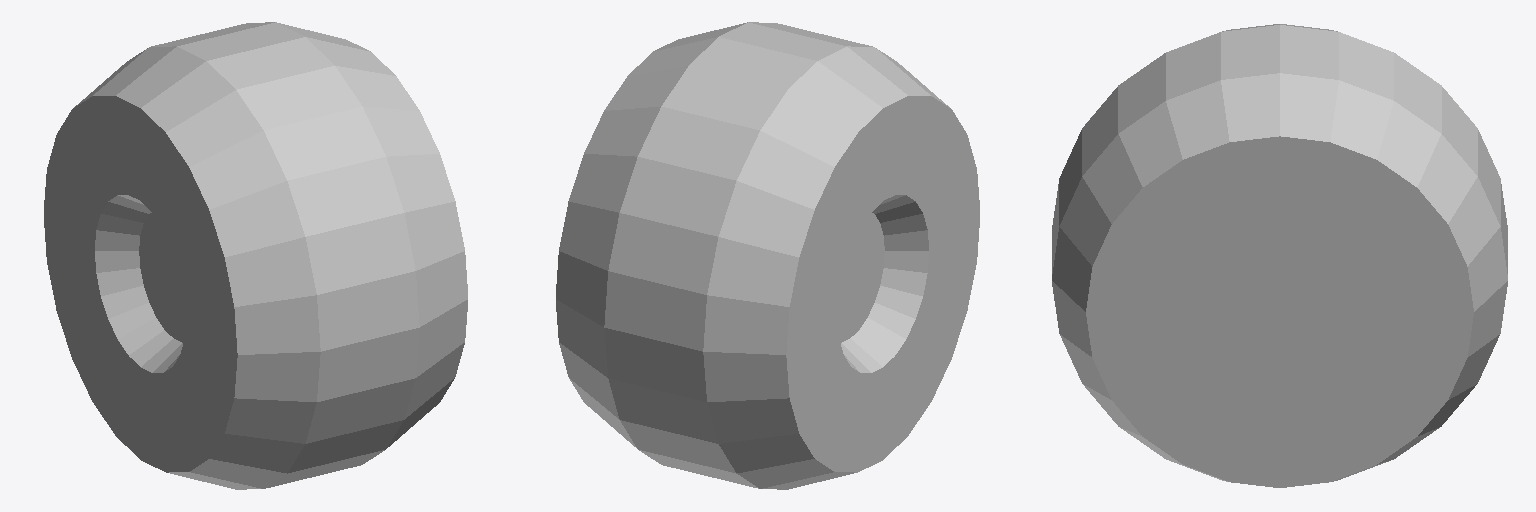
File: llanta_sedan_sport.obj
3 views of the same model, side by side, from view 1: azimuth 30°, elevation 25°; view 2: azimuth 150°, elevation 25°; view 3: azimuth 270°, elevation 25° (orthographic).
Visible parts, largest first — view 1: sedan-sports.001; view 2: sedan-sports.001; view 3: sedan-sports.001.
Boxes of the visible parts, x1,y1,x2,y2 form: sedan-sports.001: [44, 22, 467, 489]; sedan-sports.001: [556, 22, 979, 489]; sedan-sports.001: [1052, 24, 1507, 487].
Size of the model in its own units: 0.35 by 0.6 by 0.6.